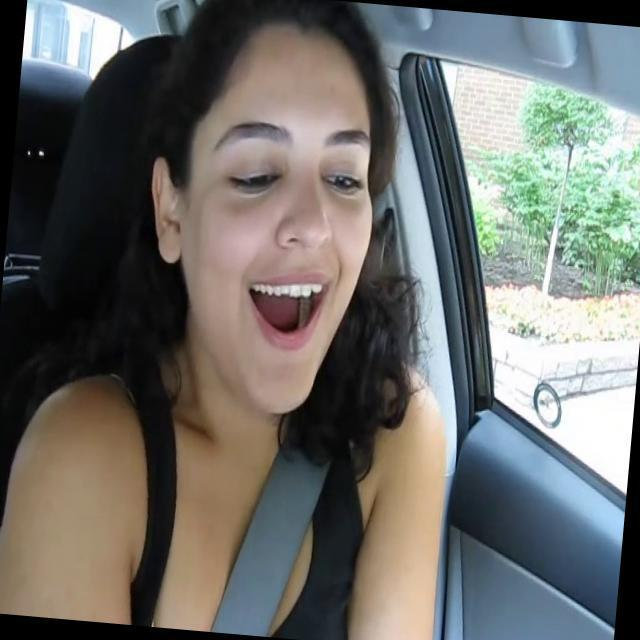open-mouth: (245, 270, 328, 346)
